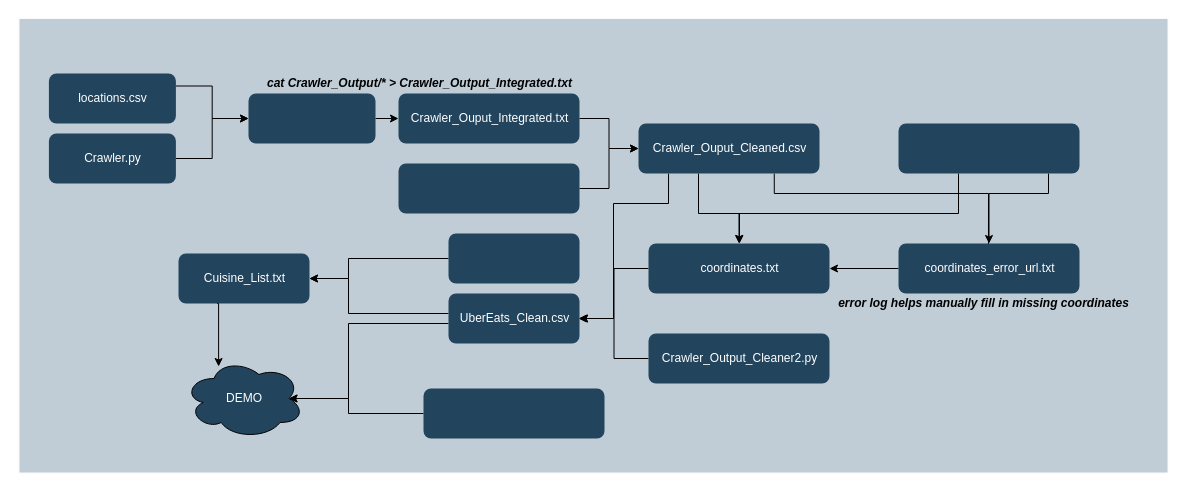
Some shapes in this 1186 by 492 pixel diagram are drawn without their labels. Here are the shapes that lost their labels. From the top down, the centre of each, then its label:
At (x=311, y=118): "Crawler_Output/*".
At (x=988, y=148): "Detail_Scraper.py".
At (x=488, y=188): "Crawler_Output_Cleaner.py".
At (x=513, y=258): "Cuisine_Lister.py".
At (x=513, y=413): "UberEats_Cuisine_Map.ipynb".
